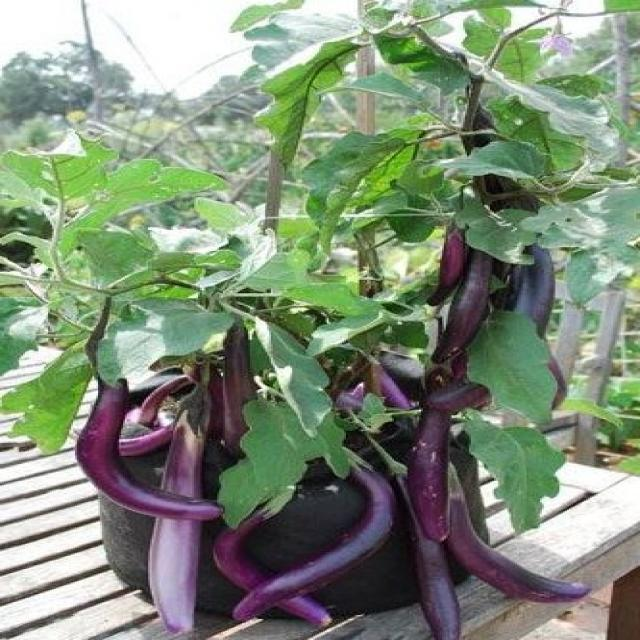brinjal: (0, 0, 640, 640)
